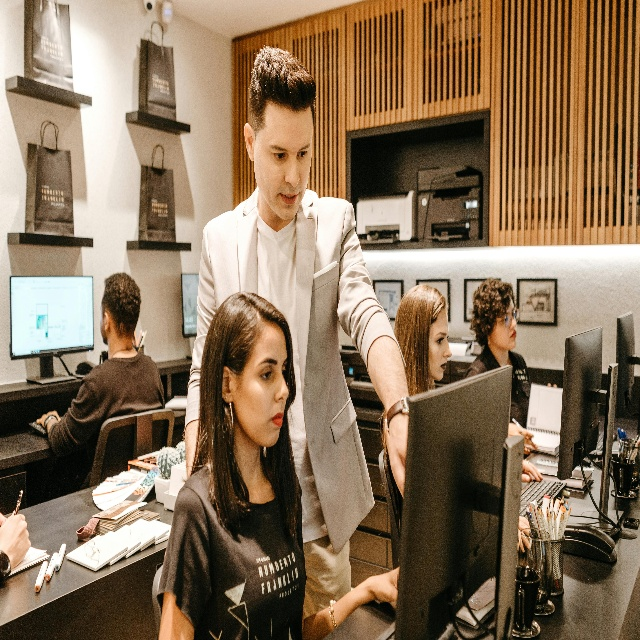Sin_guantes: (0, 510, 32, 566), (388, 411, 409, 496), (371, 567, 399, 610), (508, 421, 538, 449), (517, 516, 532, 554), (521, 459, 543, 483), (36, 411, 60, 428)
